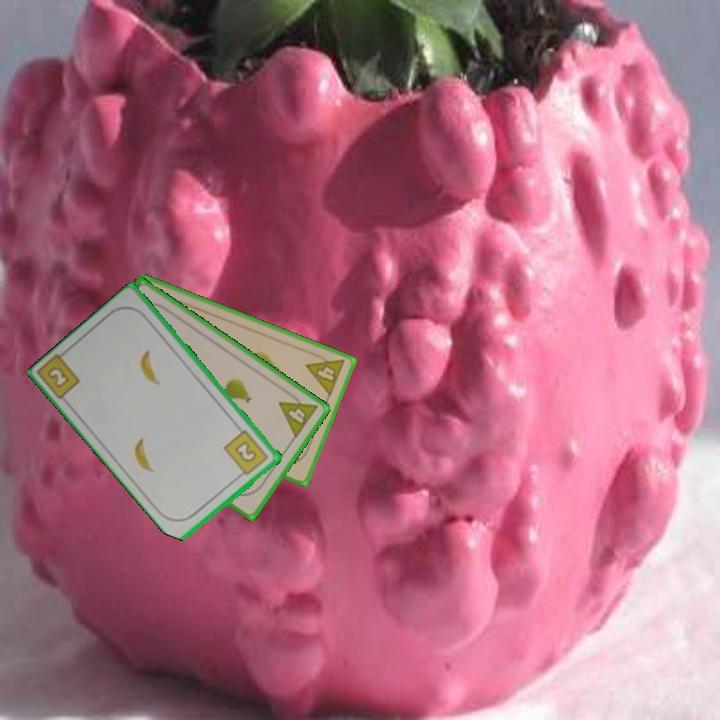2b: (221, 426, 272, 480), (44, 363, 72, 391)
4p: (275, 387, 321, 441), (302, 348, 348, 399)
